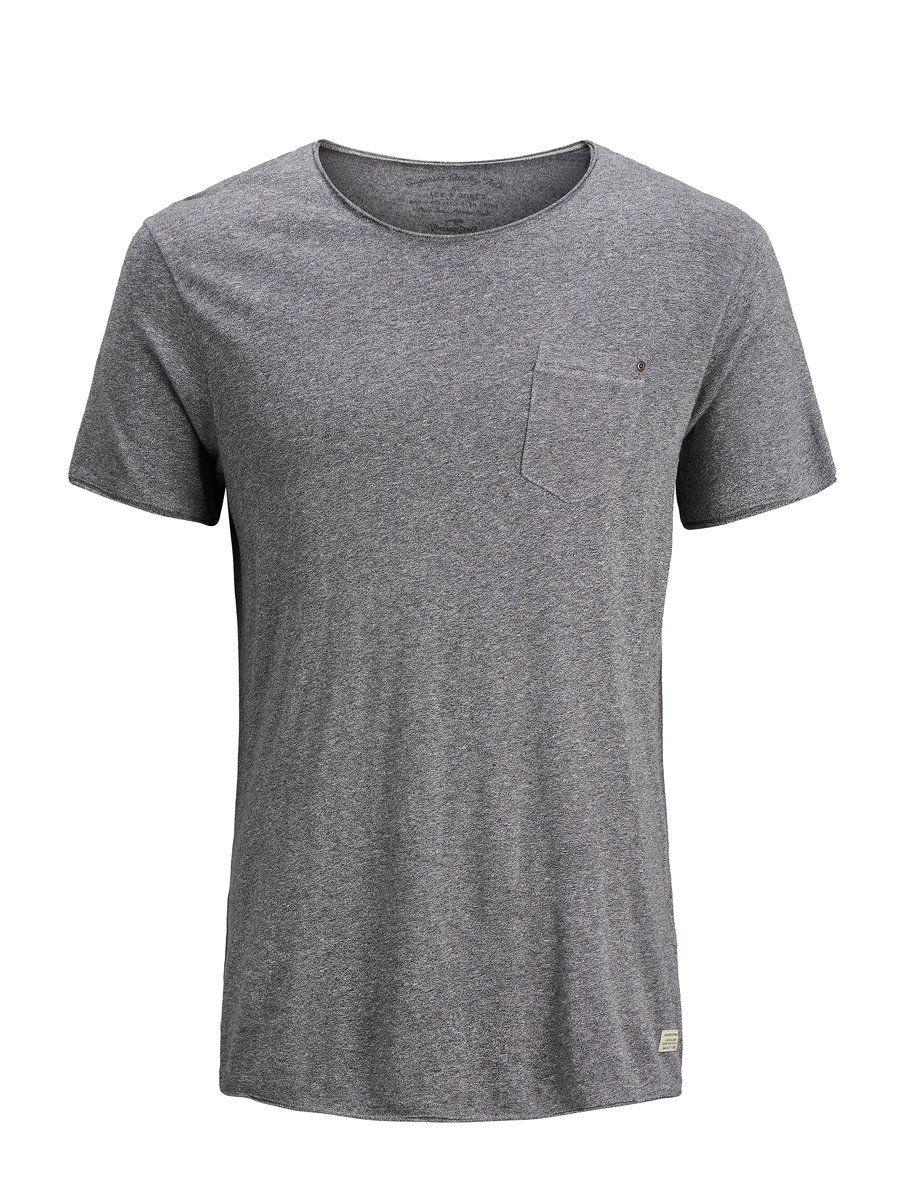teeshirt: (49, 127, 856, 1145)
